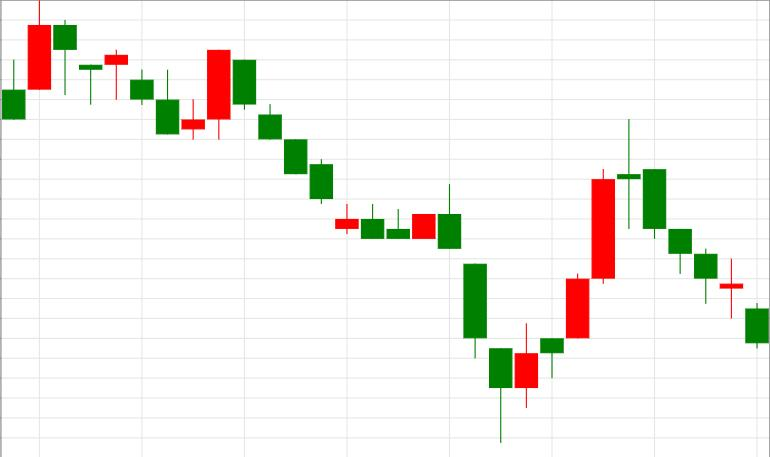hammer_rise: (233, 60, 512, 442)
